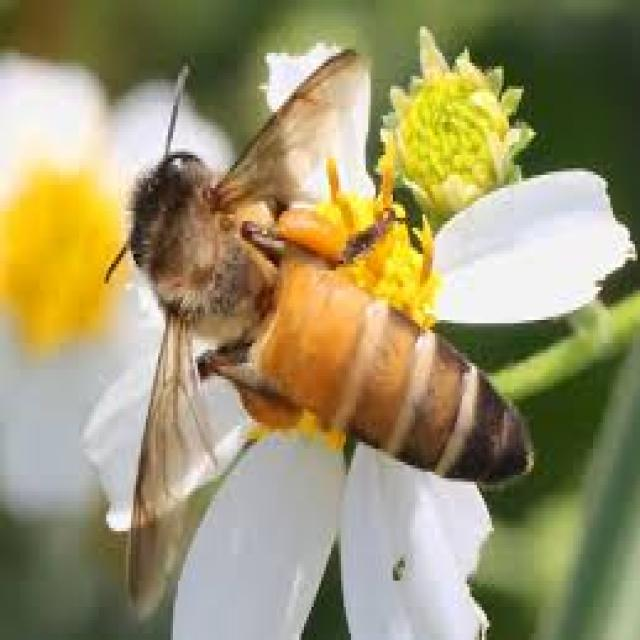Apis-mellifera-scutellata: (95, 34, 590, 628)
